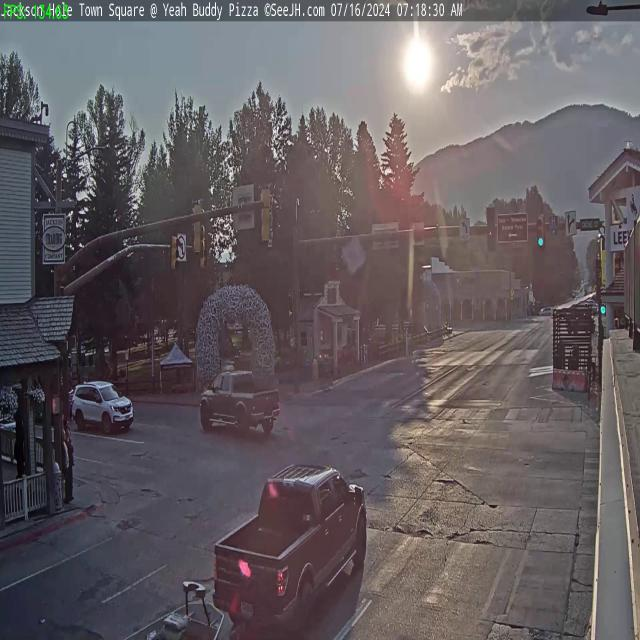person: (62, 409, 73, 501)
pickup: (211, 460, 371, 639), (196, 367, 282, 438)
suv: (67, 379, 134, 436)
traffic light: (260, 183, 273, 244), (190, 199, 203, 256), (169, 232, 179, 274), (487, 206, 496, 251), (537, 214, 546, 248)
